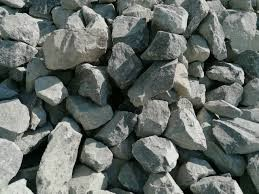rock: (1, 2, 256, 190)
